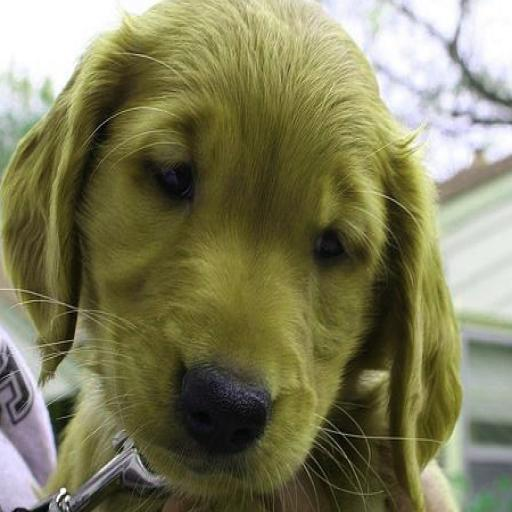dog_face: (22, 0, 439, 481)
